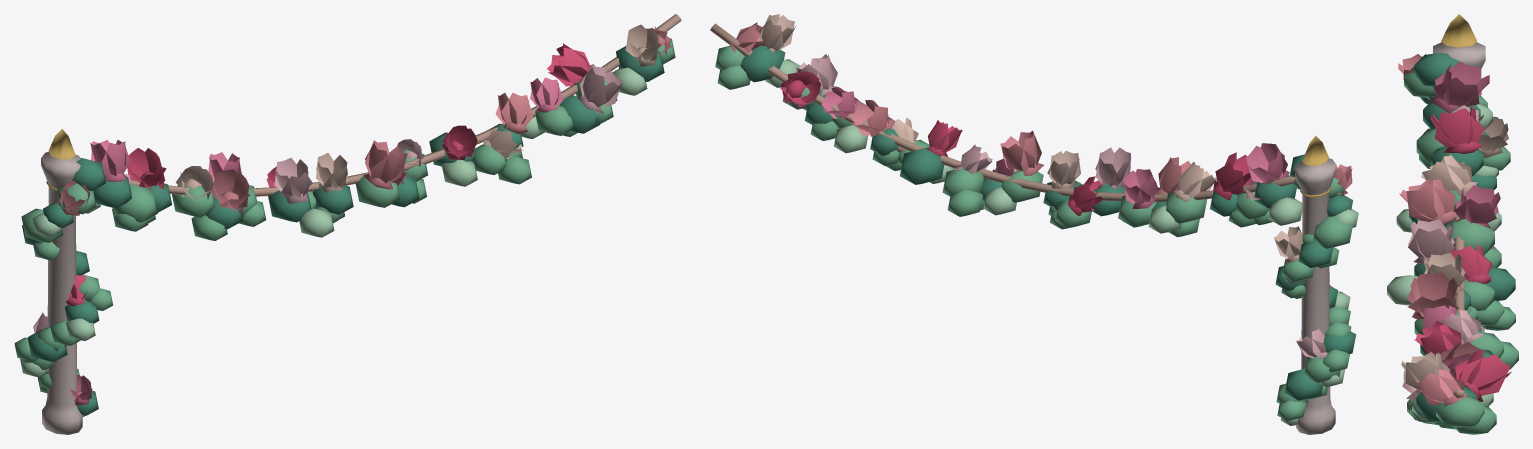
Rendered from rose_swag_bay.glb.
3 views of the same model, side by side, from view 1: azimuth 30°, elevation 25°; view 2: azimuth 150°, elevation 25°; view 3: azimuth 270°, elevation 25° (orthographic). The views are drawn at different scales.
Parts seen in each view (by area): view 1: rose_swag_bay; view 2: rose_swag_bay; view 3: rose_swag_bay.
Boxes of the visible parts, <box> form: rose_swag_bay: <box>14,14,681,434</box>; rose_swag_bay: <box>710,14,1358,434</box>; rose_swag_bay: <box>1387,14,1518,434</box>.
Size of what is drawn, in the model's own units: 7.05 by 3.05 by 1.1.
